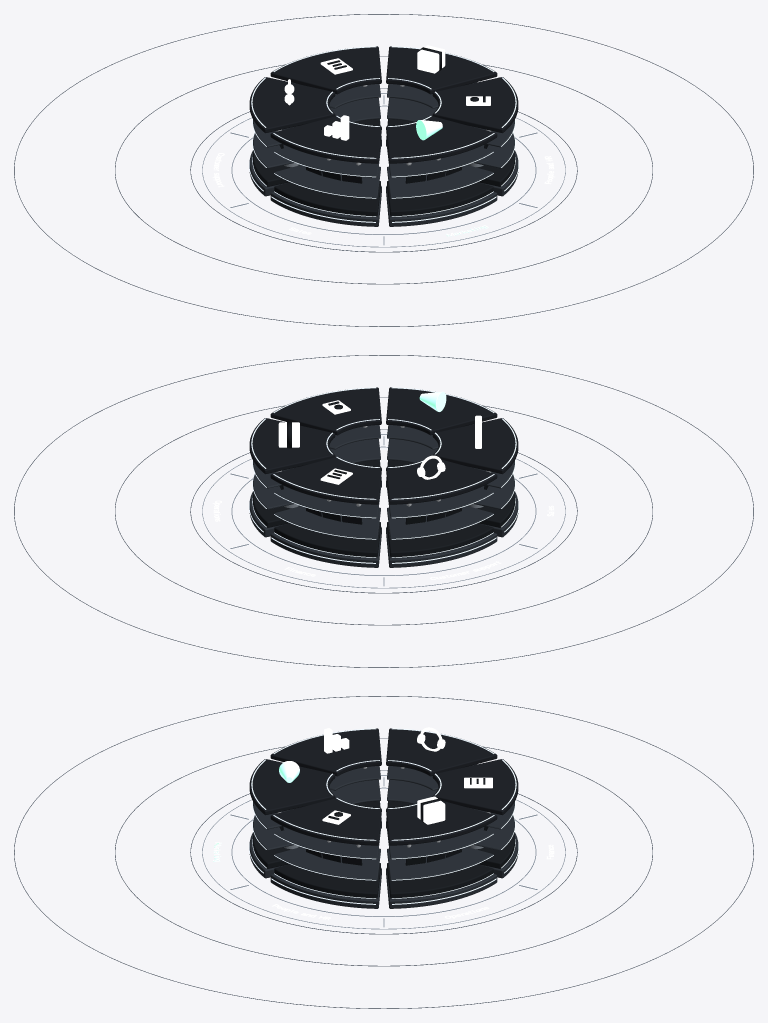
Rendered from engine.glb.
The picture shows the model from 3 angles, top to bottom: view 1: azimuth 30°, elevation 25°; view 2: azimuth 150°, elevation 25°; view 3: azimuth 270°, elevation 25°; orthographic projection.
Parts seen in each view (by area): view 1: Engine.001, FloorRings; view 2: Engine.001, FloorRings; view 3: Engine.001, FloorRings.
Part boxes in pixels (box(x1,y1,x2,y2)): Engine.001: box(202, 45, 565, 247); FloorRings: box(14, 14, 753, 326); Engine.001: box(202, 387, 565, 588); FloorRings: box(14, 355, 753, 667); Engine.001: box(202, 727, 565, 929); FloorRings: box(14, 696, 753, 1008).
Bounding box in the file's own units: 17.61 × 2.38 × 17.61.
